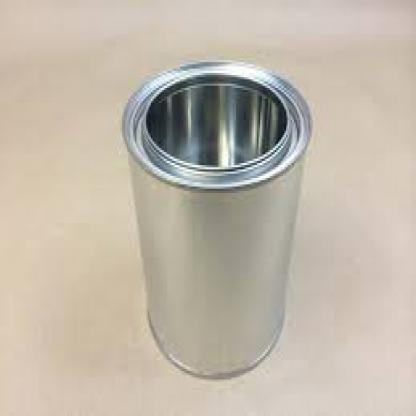Compsot: (119, 60, 311, 375)
